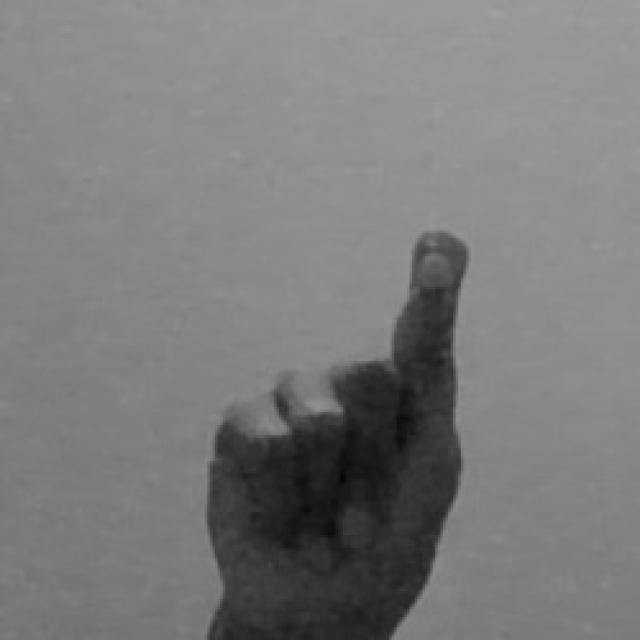T: (196, 224, 471, 640)
